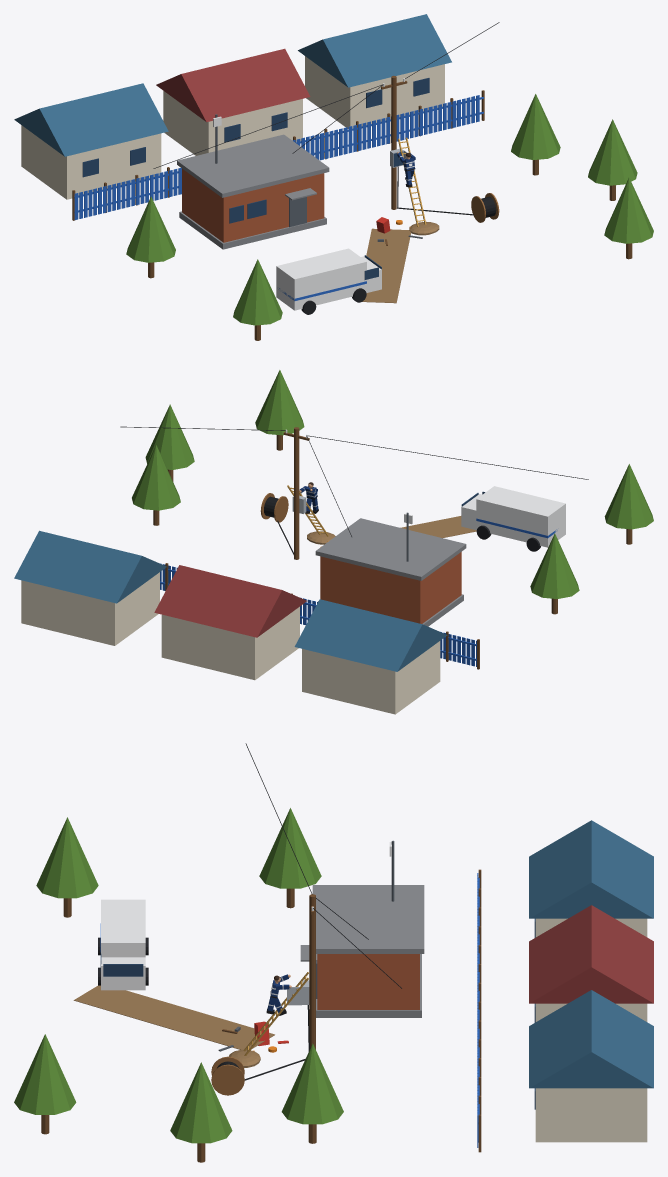
The picture shows the model from 3 angles, top to bottom: view 1: azimuth 30°, elevation 25°; view 2: azimuth 150°, elevation 25°; view 3: azimuth 270°, elevation 25°; orthographic projection. The views are drawn at different scales.
Visible parts, largest first — view 1: wall_ats, wall_house_0, wall_house_2, wall_house_1, wall_fence, item_van-ok, path, wall_tree_0, wall_tree_1, wall_tree_2, wall_tree_3, wall_tree_4 (+2 smaller); view 2: wall_house_0, wall_house_1, wall_house_2, wall_ats, item_van-ok, wall_tree_1, wall_tree_2, wall_tree_0, wall_tree_3, wall_tree_4, wall_fence, wall_pole (+2 smaller); view 3: wall_house_2, wall_ats, wall_house_1, wall_house_0, item_van-ok, path, wall_tree_4, wall_tree_1, wall_tree_0, wall_tree_2, wall_tree_3, wall_fence (+2 smaller).
Boxes of the visible parts, x1,y1,x2,y2 form: wall_ats: (177,114,329,249); wall_house_0: (14,83,168,199); wall_house_2: (298,14,451,128); wall_house_1: (156,48,310,155); wall_fence: (72,90,484,220); item_van-ok: (276,248,381,314); path: (362,228,411,303); wall_tree_0: (126,196,175,278); wall_tree_1: (233,259,282,340); wall_tree_2: (511,94,560,175); wall_tree_3: (604,177,653,259); wall_tree_4: (588,119,637,200); wall_house_0: (294,599,447,714); wall_house_1: (154,565,306,680); wall_house_2: (14,530,166,645); wall_ats: (315,512,466,626); item_van-ok: (461,486,565,551); wall_tree_1: (604,464,653,544); wall_tree_2: (132,445,180,525); wall_tree_0: (530,533,579,614); wall_tree_3: (255,370,304,450); wall_tree_4: (145,404,194,481); wall_fence: (160,563,479,669); wall_pole: (283,427,309,559); wall_house_2: (529,990,653,1142); wall_ats: (300,840,424,1017); wall_house_1: (529,905,653,1022); wall_house_0: (529,820,653,937); item_van-ok: (98,899,148,990); path: (73,985,274,1049); wall_tree_4: (170,1062,232,1162); wall_tree_1: (36,817,98,917); wall_tree_0: (259,808,321,908); wall_tree_2: (281,1043,343,1143); wall_tree_3: (14,1034,76,1134); wall_fence: (477,869,481,1152).
Size of what is drawn, in the model's own units: 29.66 by 8.27 by 28.7.
